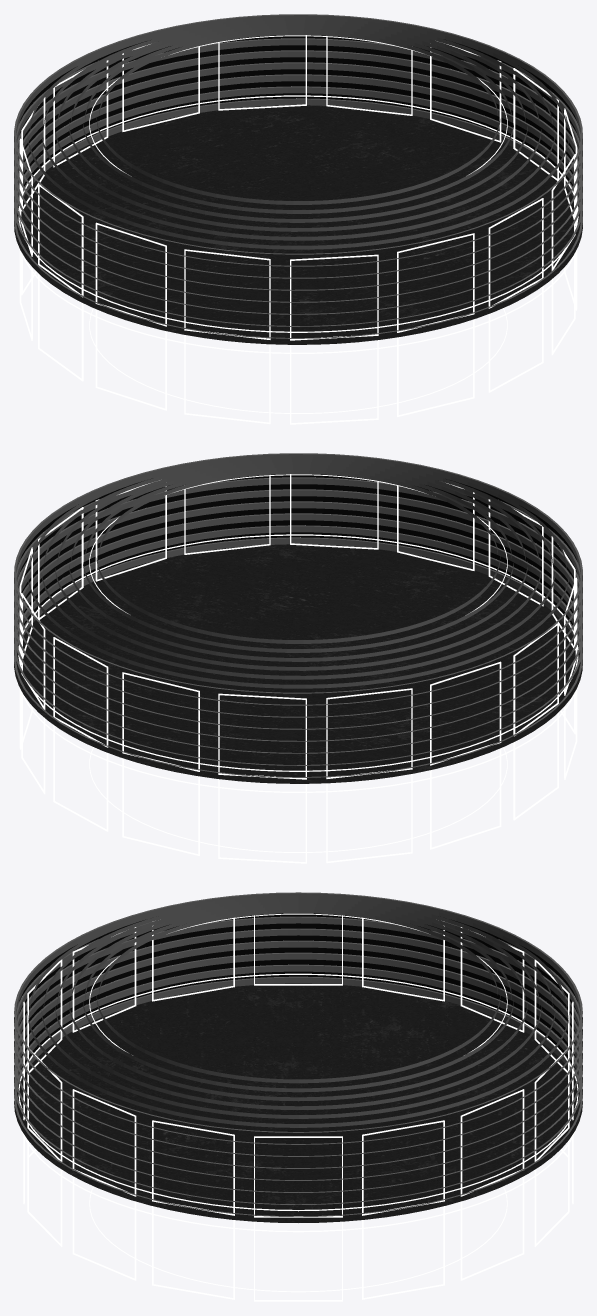
The model's file is stadium.glb.
The picture shows the model from 3 angles, top to bottom: view 1: azimuth 30°, elevation 25°; view 2: azimuth 150°, elevation 25°; view 3: azimuth 270°, elevation 25°; orthographic projection.
Visible parts, largest first — view 1: polySurface25, polySurface27, polySurface18, pCube20, pCube21; view 2: polySurface25, polySurface27, polySurface18, pCube20, pCube21; view 3: polySurface25, polySurface27, polySurface18, pCube20, pCube21.
Part boxes in pixels (x1,y1,x2,y2): polySurface25: (14,105,582,344); polySurface27: (14,14,582,338); polySurface18: (14,35,582,216); pCube20: (18,35,578,340); pCube21: (19,249,577,424); polySurface25: (14,544,582,783); polySurface27: (14,453,582,777); polySurface18: (14,474,582,655); pCube20: (18,474,578,779); pCube21: (19,688,577,863); polySurface25: (14,983,582,1222); polySurface27: (14,892,582,1216); polySurface18: (14,913,582,1094); pCube20: (18,913,578,1217); pCube21: (21,1130,575,1301).
Size of the model in its own units: 26.47 by 10.79 by 26.47.
5 materials, 1 textured.
